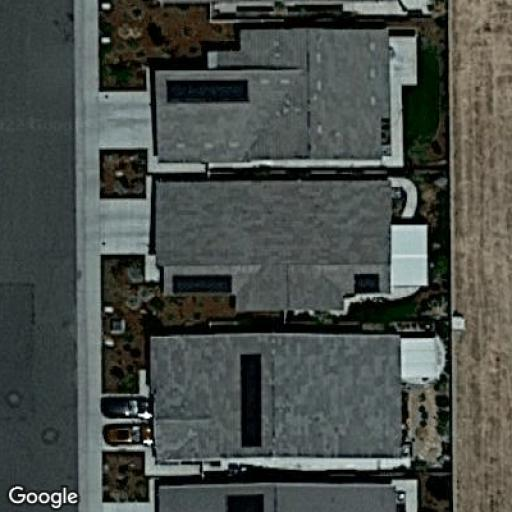solar-panel: (238, 352, 265, 450), (164, 77, 251, 107), (171, 273, 233, 294), (225, 491, 262, 512), (352, 272, 380, 296)
